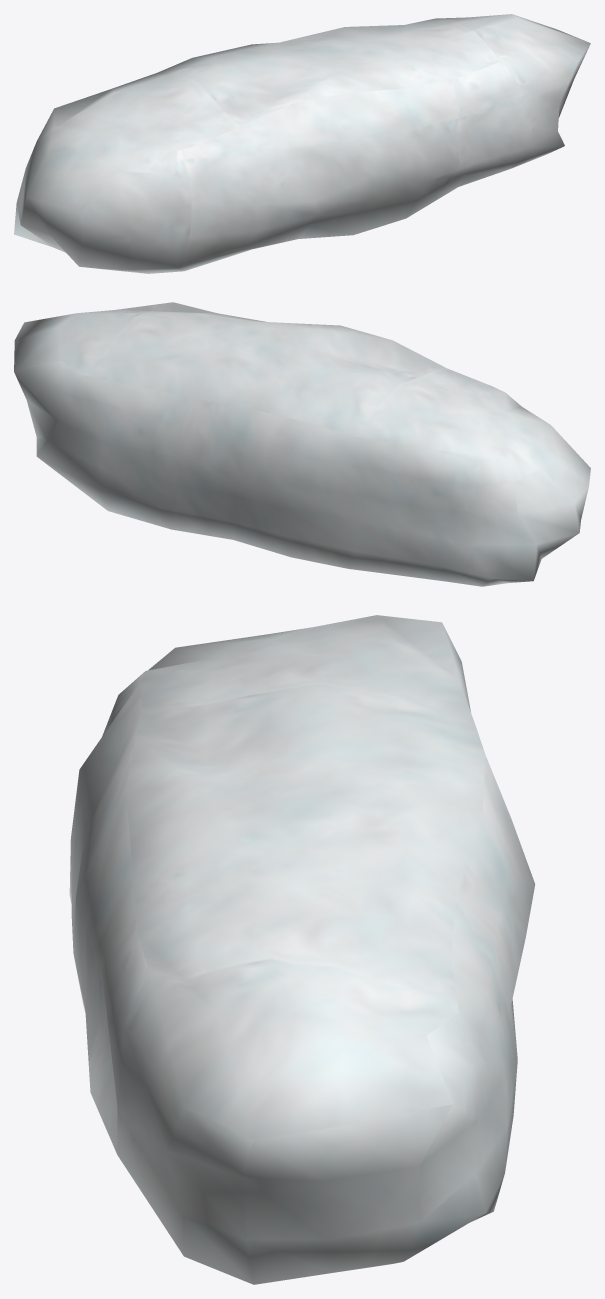
File: longRock.fbx
3 views of the same model, one above another, from view 1: azimuth 30°, elevation 25°; view 2: azimuth 150°, elevation 25°; view 3: azimuth 270°, elevation 25° (orthographic). The views are drawn at different scales.
Parts seen in each view (by area): view 1: Cube; view 2: Cube; view 3: Cube.
Boxes of the visible parts, x1,y1,x2,y2 form: Cube: [14, 14, 590, 273]; Cube: [14, 302, 590, 586]; Cube: [69, 615, 535, 1284].
Size of the model in its own units: 6.99 by 1.96 by 2.54.
